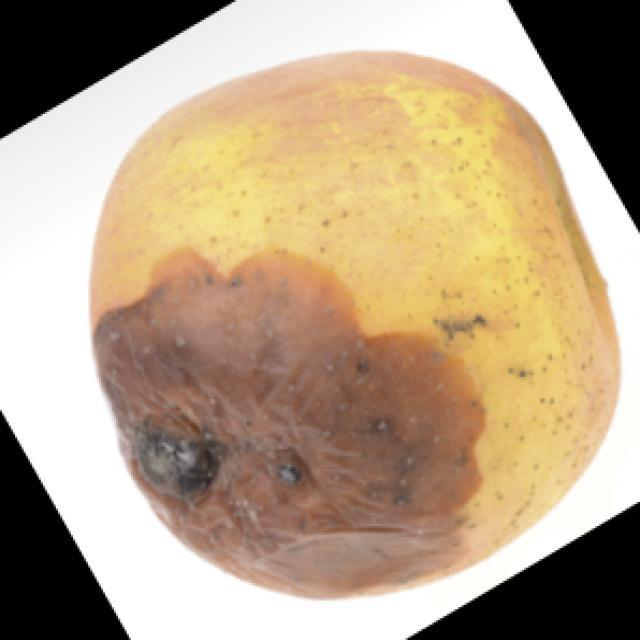Rotten: (102, 77, 633, 573)
